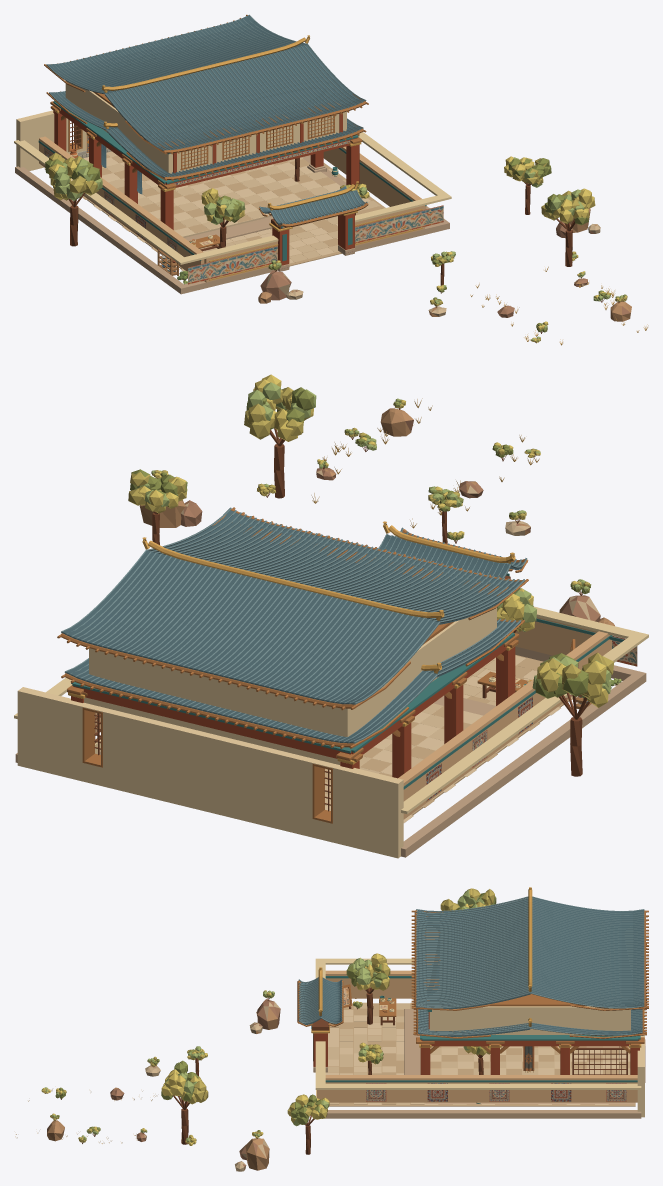
The model's file is courtyard.glb.
The picture shows the model from 3 angles, top to bottom: view 1: azimuth 30°, elevation 25°; view 2: azimuth 150°, elevation 25°; view 3: azimuth 270°, elevation 25°; orthographic projection. The views are drawn at different scales.
Parts seen in each view (by area): view 1: hall-v003-upper-roof, hall-v003-paving-c, hall-v003-paving-b, courtyard-paving, hall-v003-upper-wall-front, hall-v003-paving-a, entrance-roof, courtyard-side-wall, tree-court-outer-west-canopy, courtyard-v005-side-plinth-west, hall-v003-upper-wall-left, courtyard-side-wall-001 (+24 smaller); view 2: hall-v003-upper-roof, courtyard-square-rear-pier-1, hall-v003-upper-wall-rear, courtyard-square-rear-pier-0, courtyard-square-rear-pier-2, courtyard-side-wall, courtyard-v005-side-plinth-west, hall-v003-upper-wall-left, hall-v003-lower-eave-rear, tree-road-east-canopy, hall-v003-lower-eave-left, entrance-roof (+22 smaller); view 3: hall-v003-upper-roof, courtyard-side-wall-001, courtyard-paving, hall-v003-upper-wall-right, courtyard-v005-side-plinth-east, courtyard-v005-side-coping-east, entrance-roof, hall-v003-lower-eave-right, hall-v003-paving-c, hall-v003-paving-a, hall-v003-paving-b, courtyard-ground (+17 smaller).
Part boxes in pixels (bbox=[...]): hall-v003-upper-roof: bbox=[44, 14, 368, 154]; hall-v003-paving-c: bbox=[83, 157, 340, 236]; hall-v003-paving-b: bbox=[102, 154, 335, 232]; courtyard-paving: bbox=[82, 158, 381, 271]; hall-v003-upper-wall-front: bbox=[170, 112, 345, 173]; hall-v003-paving-a: bbox=[102, 151, 332, 229]; entrance-roof: bbox=[259, 181, 368, 227]; courtyard-side-wall: bbox=[39, 136, 204, 281]; tree-court-outer-west-canopy: bbox=[45, 152, 102, 200]; courtyard-v005-side-plinth-west: bbox=[15, 166, 183, 293]; hall-v003-upper-wall-left: bbox=[65, 81, 170, 172]; courtyard-side-wall-001: bbox=[323, 146, 426, 227]; hall-v003-upper-roof: bbox=[57, 507, 528, 710]; courtyard-square-rear-pier-1: bbox=[101, 708, 318, 837]; hall-v003-upper-wall-rear: bbox=[91, 649, 345, 736]; courtyard-square-rear-pier-0: bbox=[331, 764, 403, 858]; courtyard-square-rear-pier-2: bbox=[17, 687, 88, 781]; courtyard-side-wall: bbox=[398, 631, 611, 819]; courtyard-v005-side-plinth-west: bbox=[401, 673, 646, 857]; hall-v003-upper-wall-left: bbox=[342, 606, 496, 736]; hall-v003-lower-eave-rear: bbox=[80, 675, 344, 747]; tree-road-east-canopy: bbox=[244, 374, 316, 441]; hall-v003-lower-eave-left: bbox=[335, 619, 524, 748]; entrance-roof: bbox=[378, 521, 528, 578]; hall-v003-upper-roof: bbox=[411, 887, 648, 1010]; courtyard-side-wall-001: bbox=[320, 1075, 637, 1102]; courtyard-paving: bbox=[325, 1002, 608, 1104]; hall-v003-upper-wall-right: bbox=[429, 1006, 630, 1034]; courtyard-v005-side-plinth-east: bbox=[325, 1110, 641, 1118]; courtyard-v005-side-coping-east: bbox=[315, 1083, 641, 1089]; entrance-roof: bbox=[297, 967, 343, 1026]; hall-v003-lower-eave-right: bbox=[413, 1018, 646, 1038]; hall-v003-paving-c: bbox=[430, 1046, 630, 1074]; hall-v003-paving-a: bbox=[430, 1046, 630, 1074]; hall-v003-paving-b: bbox=[430, 1046, 630, 1074]; courtyard-ground: bbox=[328, 1003, 635, 1106].
Bounding box in the file's own units: 39.52 × 10.63 × 51.48.
56 materials, 27 textured.
